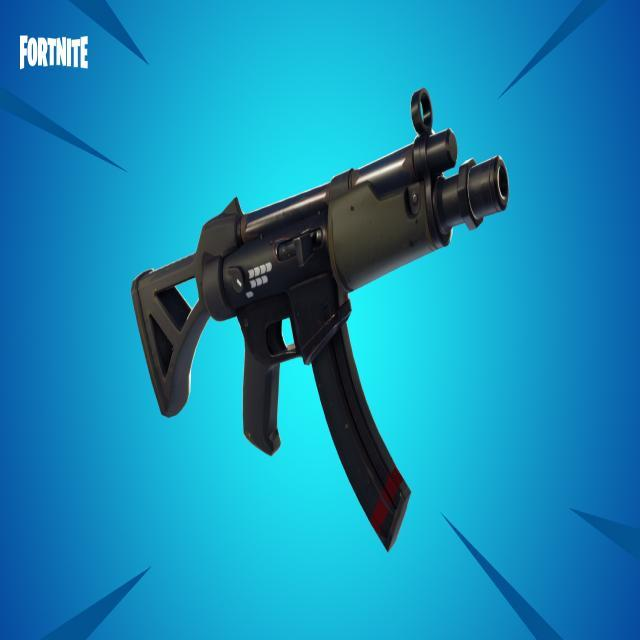rifle: (123, 82, 511, 562)
